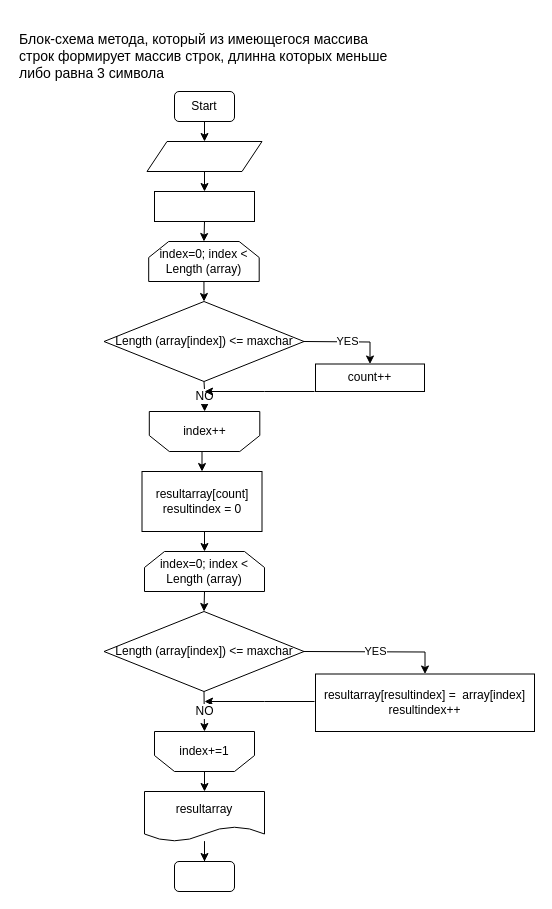
Some shapes in this 552 by 909 pixel diagram are drawn without their labels. The shapes that lost their labels are listed below. From the top down, each one's centre as x and y in pixels, then its label:
(x=204, y=156): array maxchar=3
(x=204, y=206): count = 0
(x=204, y=876): Finish
